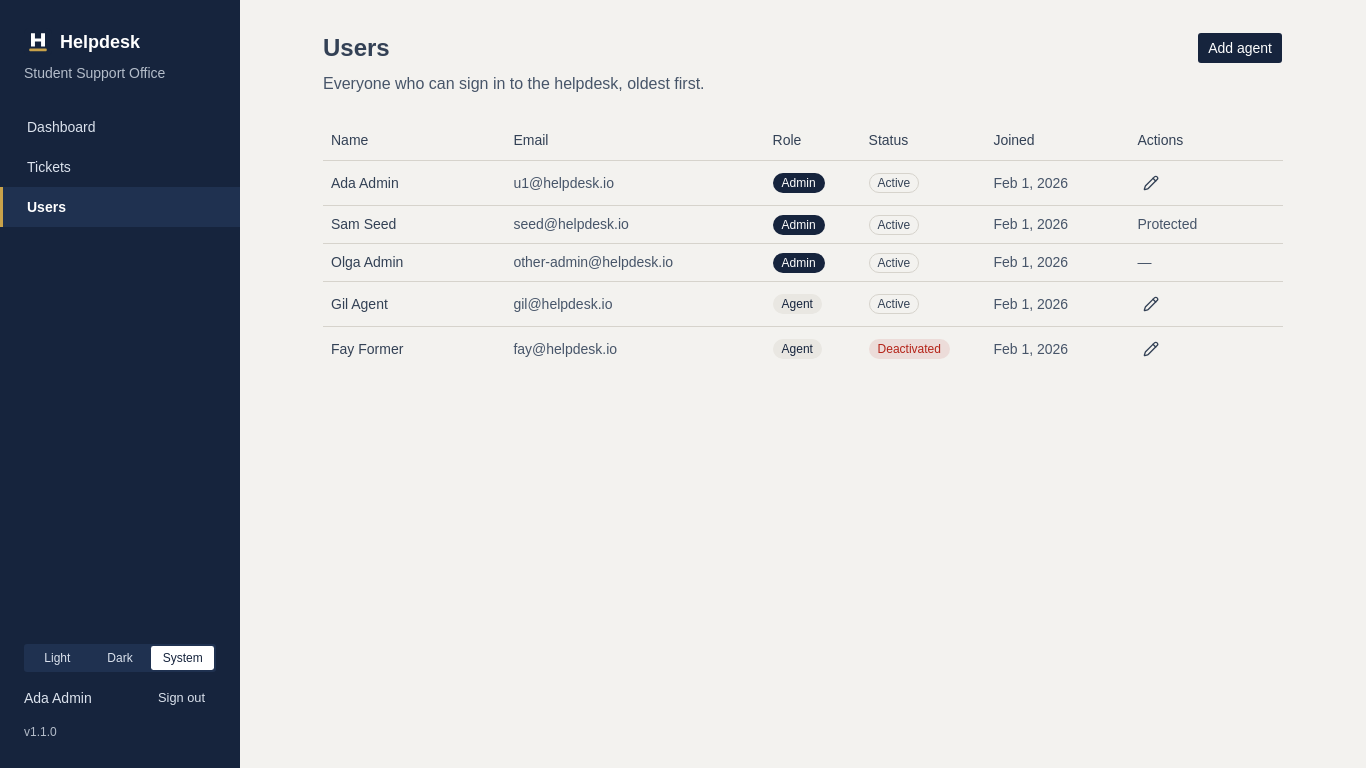
saves only what changed, then shows it and says so
Click the button named "Edit Gil Agent" at (1151, 304), box [1137,290,1165,318]
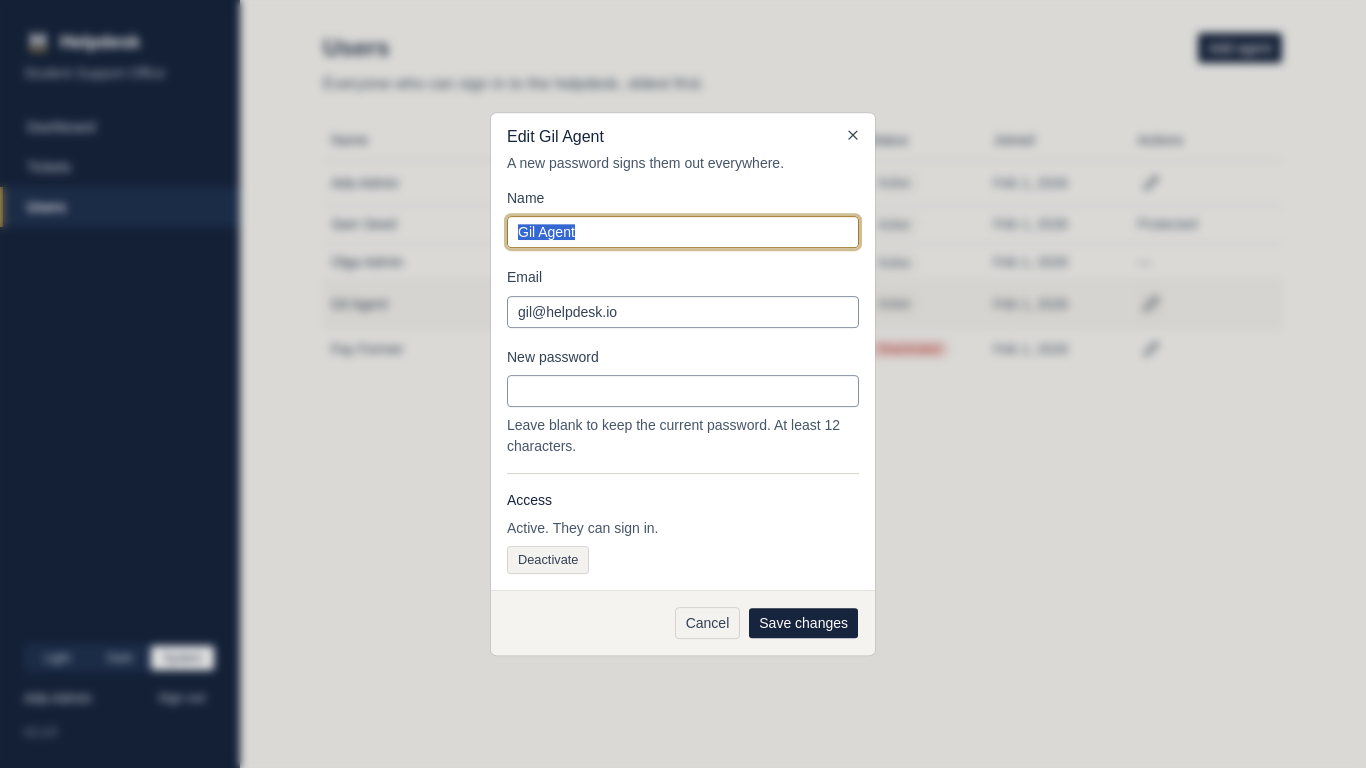
Now the field labelled "Email" holds "gil@helpdesk.io", box [507,296,859,328]
Replace the text in the field labelled "Name" with "Gil Renamed" at (683, 232), box [507,216,859,248]
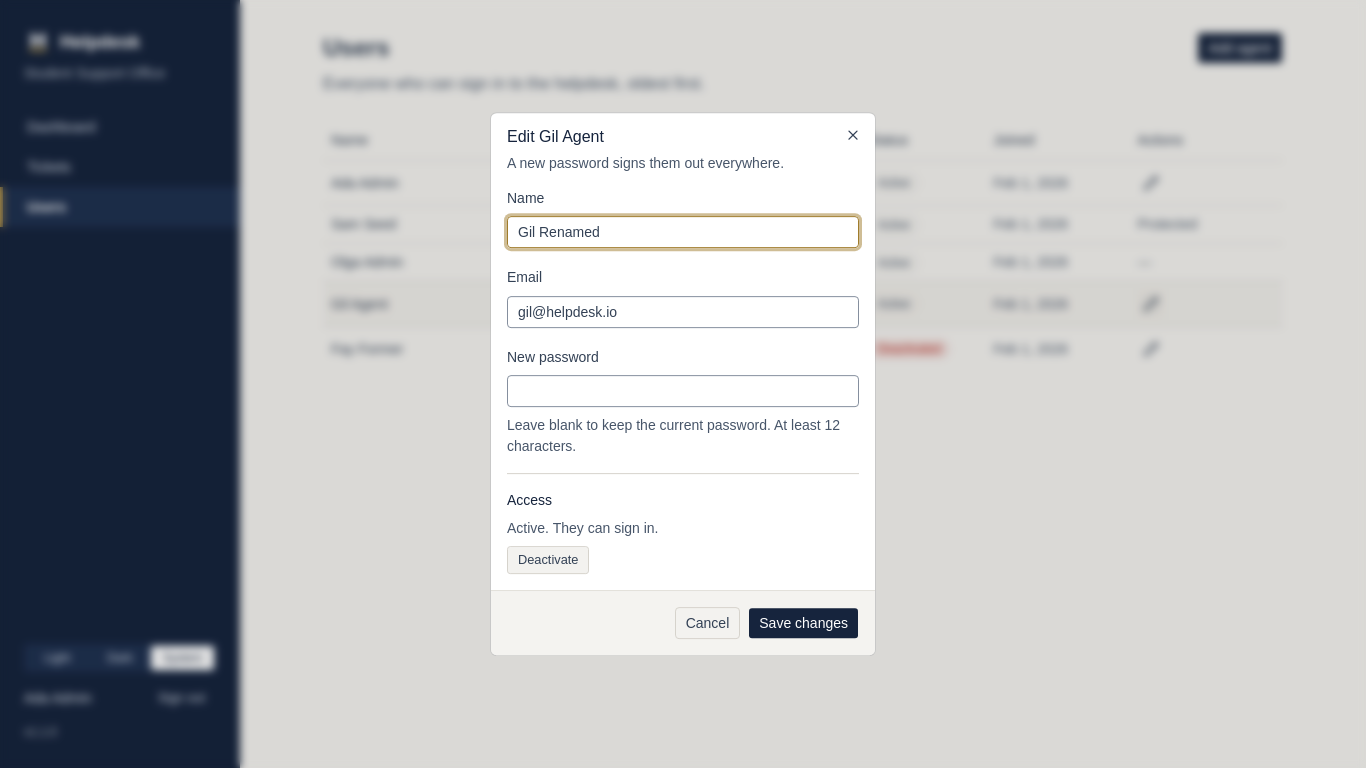
Click the button "Save changes" at (804, 623), box [748,607,859,639]
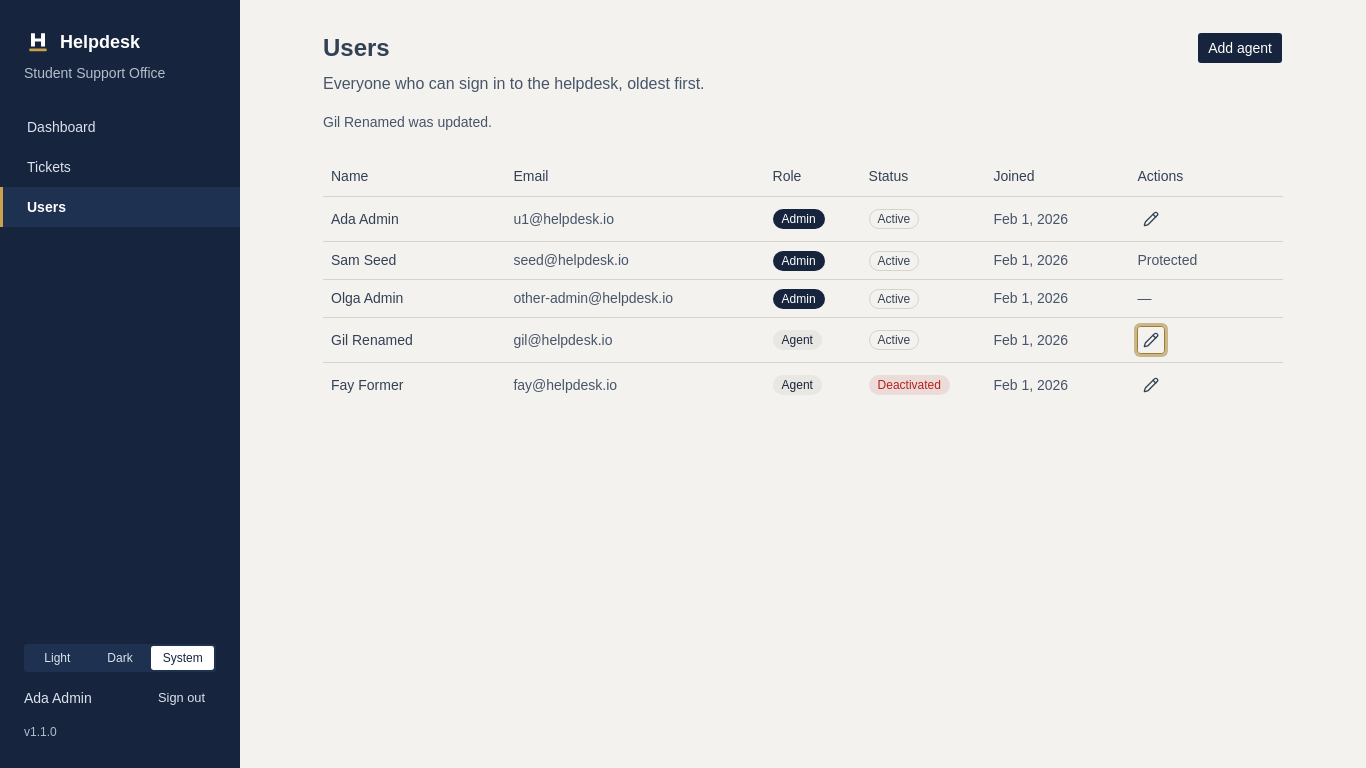
Now the dialog is gone
Now the cell "Gil Renamed" is shown, box [323,317,505,362]
Now the text "Gil Renamed was updated." is shown, box [323,114,492,130]
